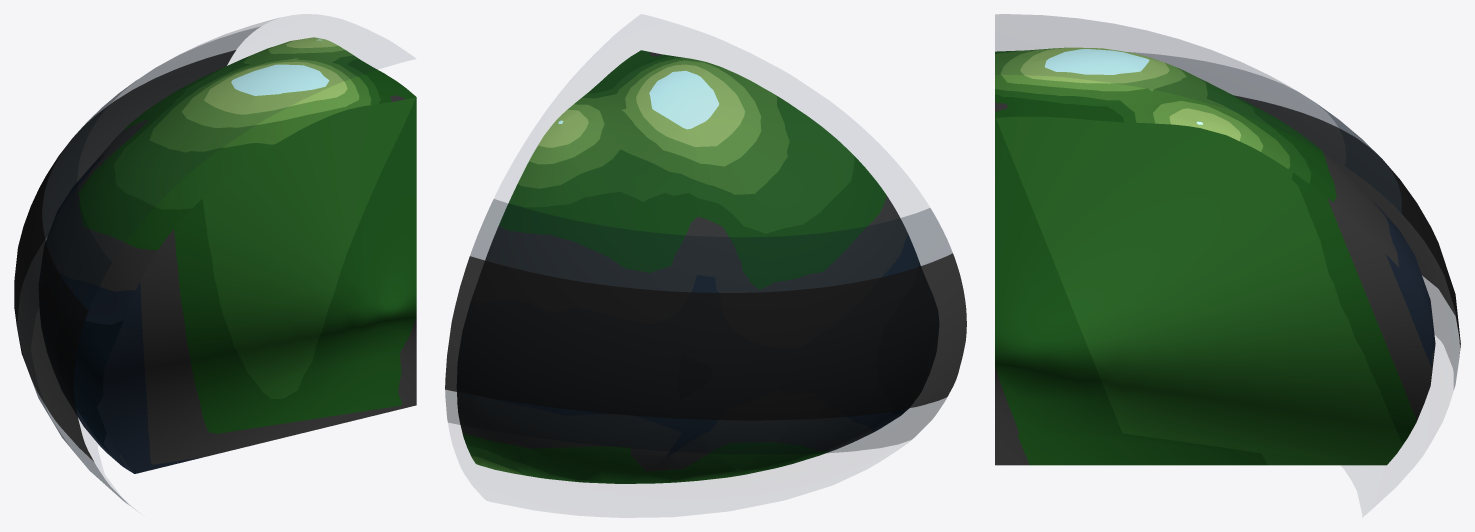
File: glass_globe_tl_233.glb
3 views of the same model, side by side, from view 1: azimuth 30°, elevation 25°; view 2: azimuth 150°, elevation 25°; view 3: azimuth 270°, elevation 25° (orthographic). The views are drawn at different scales.
Parts seen in each view (by area): view 1: glass_globe_tl; view 2: glass_globe_tl; view 3: glass_globe_tl.
Part boxes in pixels (bbox=[...]): glass_globe_tl: bbox=[14, 18, 416, 506]; glass_globe_tl: bbox=[445, 50, 966, 483]; glass_globe_tl: bbox=[995, 14, 1460, 465].
Size of the model in its own units: 22.9 by 25.11 by 23.9.
